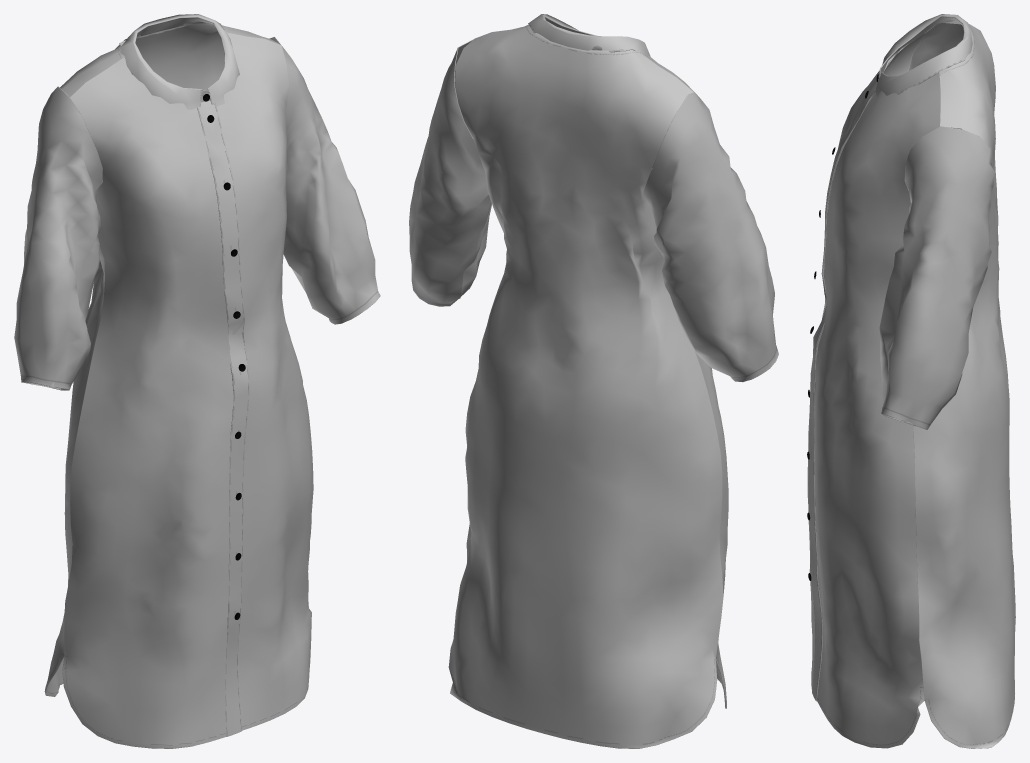
File: rosielongdresslowpoly.fbx
The picture shows the model from 3 angles, left to right: view 1: azimuth 30°, elevation 25°; view 2: azimuth 150°, elevation 25°; view 3: azimuth 270°, elevation 25°; orthographic projection. The views are drawn at different scales.
Visible parts, largest first — view 1: noname.003; view 2: noname.003; view 3: noname.003.
Boxes of the visible parts, bbox=[...] form: noname.003: bbox=[14, 14, 380, 748]; noname.003: bbox=[409, 14, 778, 748]; noname.003: bbox=[807, 14, 1015, 748].
Size of the model in its own units: 61.77 by 112 by 31.42.
42 materials, 42 textured.
